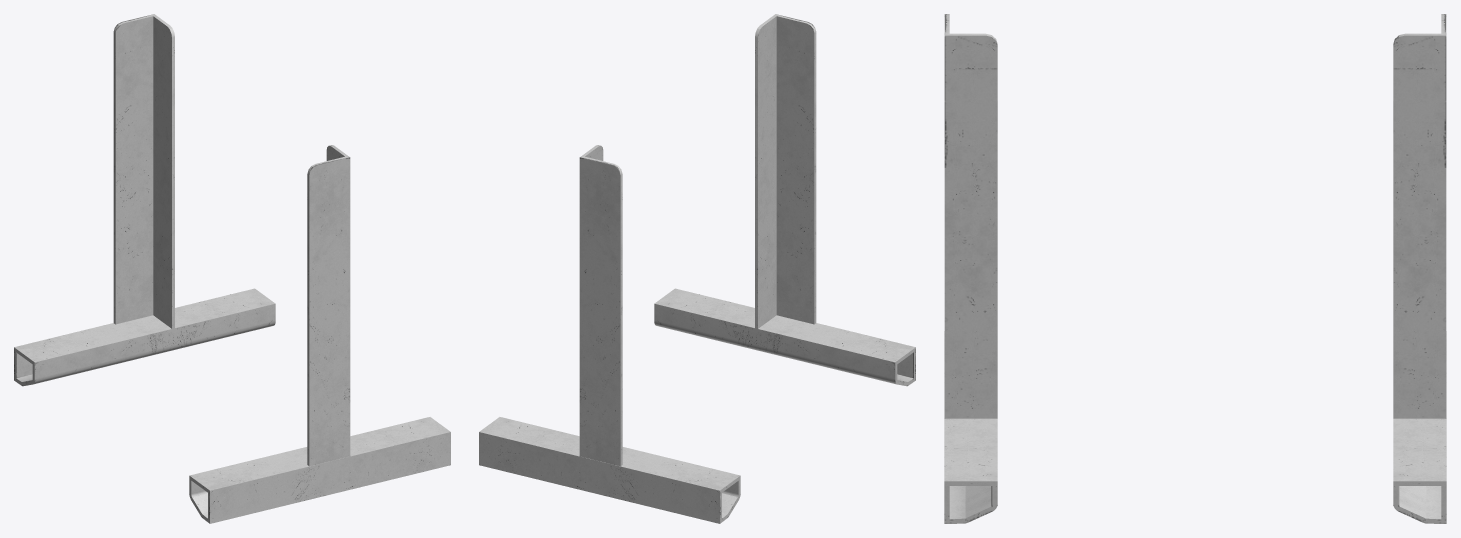
The model's file is Rigid T.fbx.
3 views of the same model, side by side, from view 1: azimuth 30°, elevation 25°; view 2: azimuth 150°, elevation 25°; view 3: azimuth 270°, elevation 25° (orthographic). The views are drawn at different scales.
Parts seen in each view (by area): view 1: Cube.001; view 2: Cube.001; view 3: Cube.001.
Part boxes in pixels (x1,y1,x2,y2): Cube.001: [14, 14, 450, 523]; Cube.001: [479, 14, 915, 523]; Cube.001: [944, 14, 1446, 523].
Bounding box in the file's own units: 41.58 × 54.83 × 58.63.
Materials: 1 (1 with a texture image).
